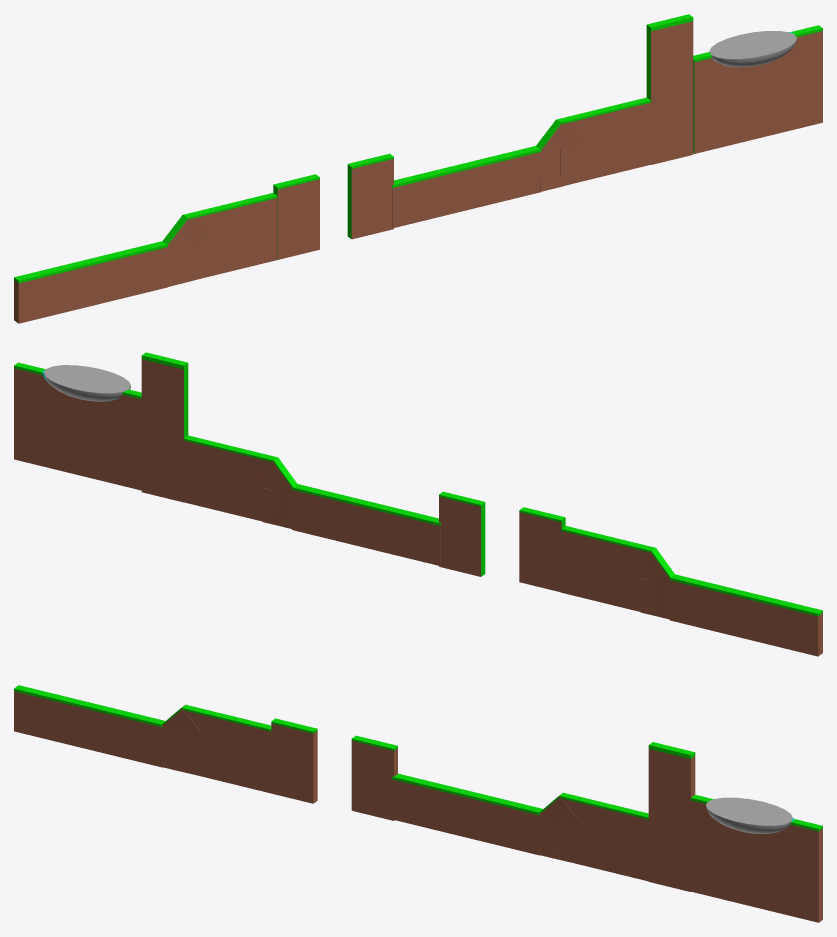
File: Stage.fbx
3 views of the same model, one above another, from view 1: azimuth 30°, elevation 25°; view 2: azimuth 150°, elevation 25°; view 3: azimuth 330°, elevation 25° (orthographic).
Parts seen in each view (by area): view 1: polySurface12, polySurface13; view 2: polySurface12, polySurface13; view 3: polySurface12, polySurface13.
Part boxes in pixels (bbox=[...]): polySurface12: bbox=[14, 14, 822, 323]; polySurface13: bbox=[709, 31, 796, 67]; polySurface12: bbox=[14, 352, 822, 656]; polySurface13: bbox=[44, 365, 130, 401]; polySurface12: bbox=[14, 685, 822, 922]; polySurface13: bbox=[706, 797, 792, 833].
Size of the model in its own units: 267 by 44.01 by 15.7.
